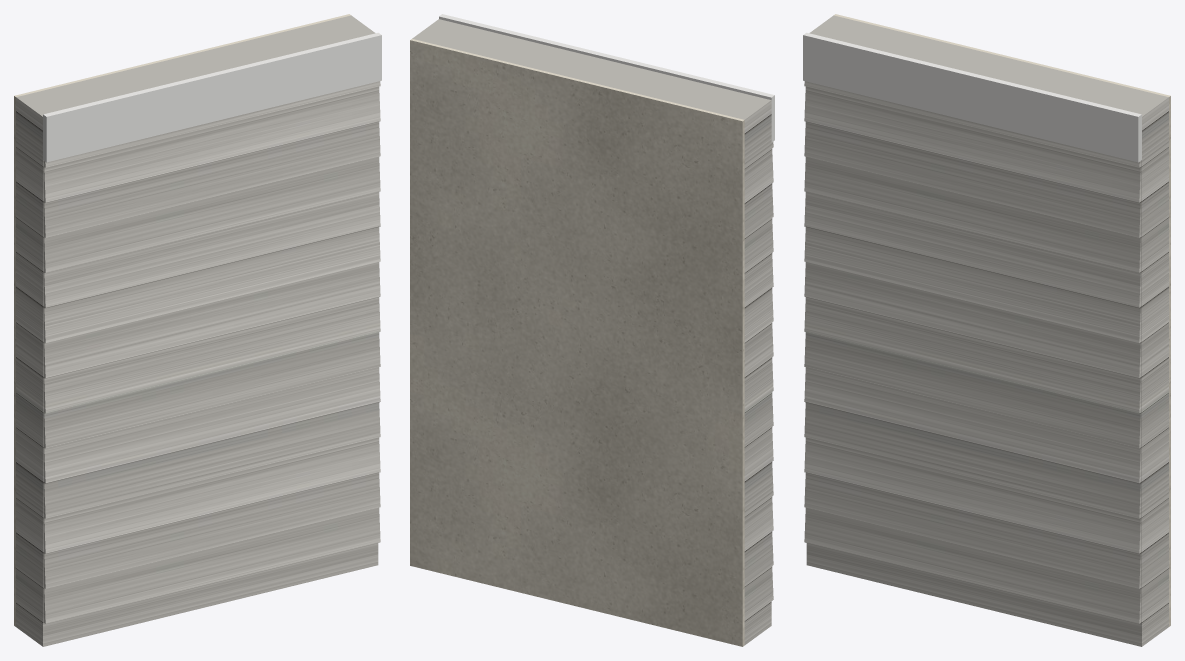
File: wing_wall_plain.glb
3 renders of one model, left to right at view 1: azimuth 30°, elevation 25°; view 2: azimuth 150°, elevation 25°; view 3: azimuth 330°, elevation 25°, orthographic.
Parts seen in each view (by area): view 1: wing_wall_plain_siding, wing_wall_plain_trim, wing_wall_plain_plaster; view 2: wing_wall_plain_plaster, wing_wall_plain_siding, wing_wall_plain_trim; view 3: wing_wall_plain_siding, wing_wall_plain_trim, wing_wall_plain_plaster.
Boxes of the visible parts, bbox=[...] form: wing_wall_plain_siding: bbox=[16, 15, 380, 646]; wing_wall_plain_trim: bbox=[43, 32, 381, 162]; wing_wall_plain_plaster: bbox=[14, 14, 350, 626]; wing_wall_plain_plaster: bbox=[410, 39, 744, 646]; wing_wall_plain_siding: bbox=[412, 19, 773, 644]; wing_wall_plain_trim: bbox=[439, 14, 774, 142]; wing_wall_plain_siding: bbox=[804, 15, 1168, 646]; wing_wall_plain_trim: bbox=[803, 32, 1141, 162]; wing_wall_plain_plaster: bbox=[834, 14, 1170, 626].
Bounding box in the file's own units: 2 × 3.04 × 0.335.
3 materials, 2 textured.
